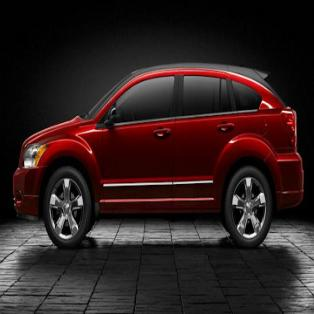Auto: (13, 65, 303, 252)
